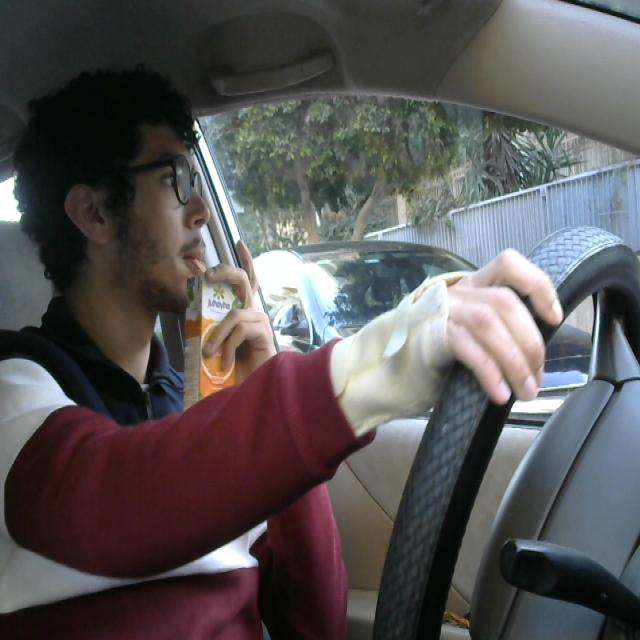drinking: (172, 240, 254, 423)
